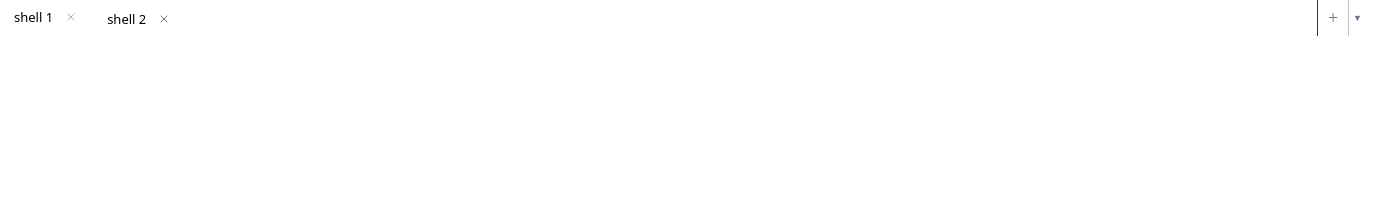
TabBar › shows profile dropdown on arrow click
Click the button "▼" at (1357,18), box [1348, 0, 1366, 36]
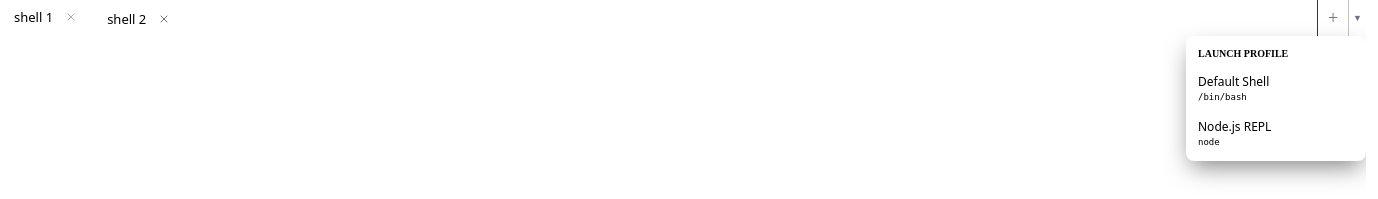
Check: the text "Launch Profile" is shown, box [1198, 48, 1288, 59]
Check: the text "Default Shell" is shown, box [1198, 73, 1269, 90]
Check: the text "Node.js REPL" is shown, box [1198, 118, 1271, 135]
